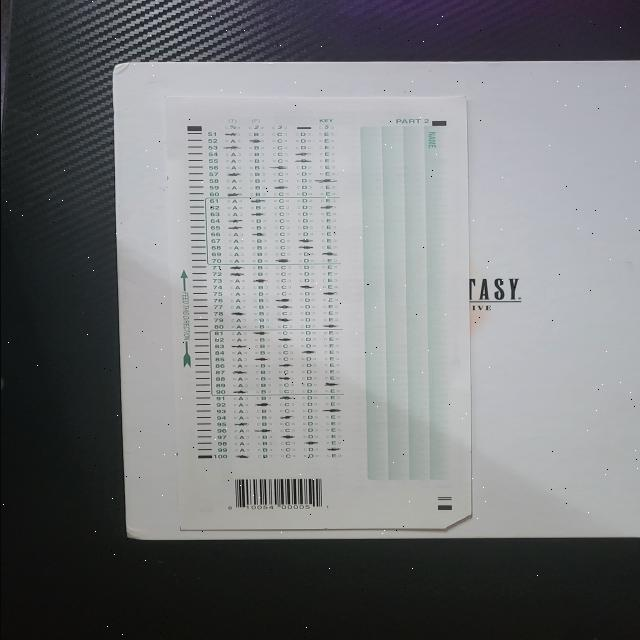scantron_back: (165, 96, 471, 530)
